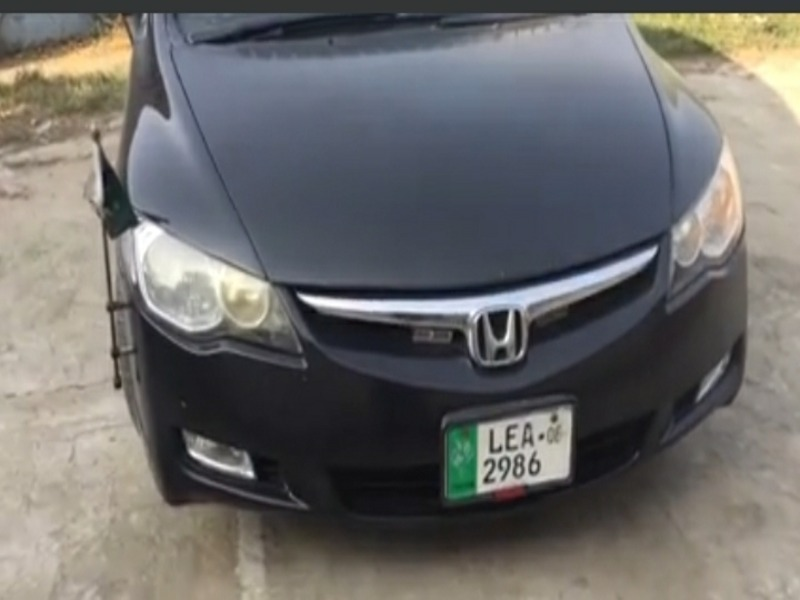License Plate: (436, 394, 578, 507)
